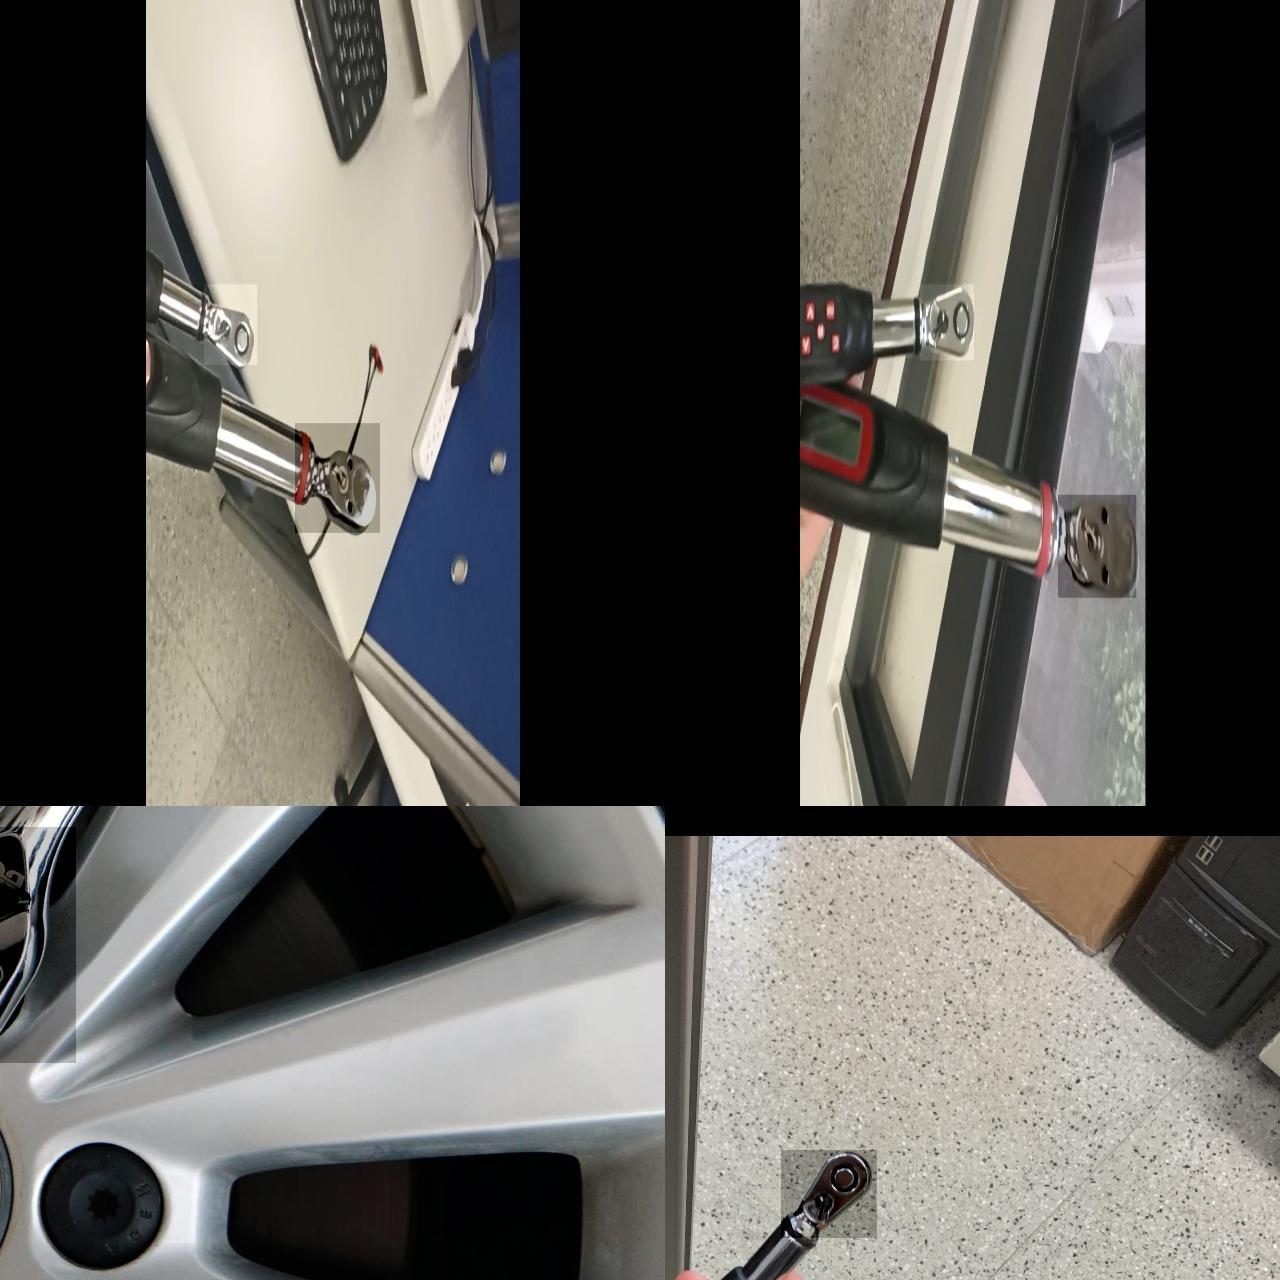Tool: (0, 828, 75, 1063), (294, 423, 379, 533), (779, 1150, 876, 1238), (1057, 495, 1136, 599), (204, 285, 257, 365), (919, 285, 974, 361)
